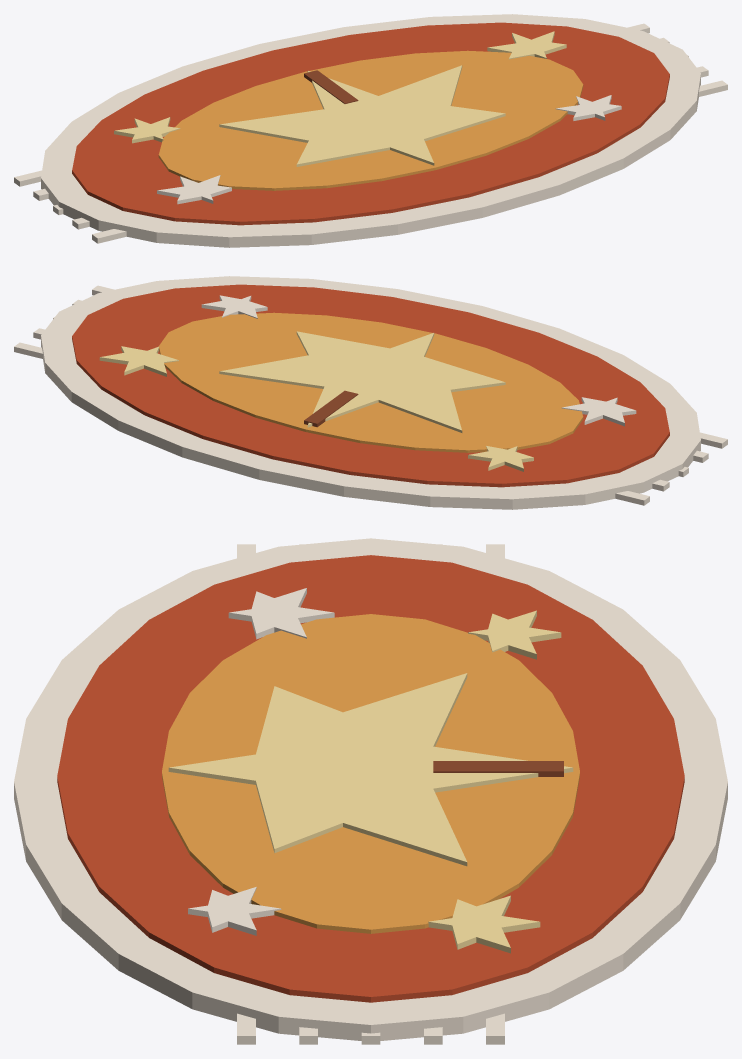
The model's file is CatCafe_Decor_FallenLeafRug.glb.
3 renders of one model, top to bottom at view 1: azimuth 30°, elevation 25°; view 2: azimuth 150°, elevation 25°; view 3: azimuth 270°, elevation 25°, orthographic. The views are drawn at different scales.
Parts seen in each view (by area): view 1: CatCafe_Decor_FallenLeafRug; view 2: CatCafe_Decor_FallenLeafRug; view 3: CatCafe_Decor_FallenLeafRug.
Boxes of the visible parts, bbox=[...] form: CatCafe_Decor_FallenLeafRug: bbox=[14, 14, 727, 247]; CatCafe_Decor_FallenLeafRug: bbox=[14, 276, 727, 509]; CatCafe_Decor_FallenLeafRug: bbox=[14, 538, 727, 1044].
Size of the model in its own units: 3.74 by 0.115 by 2.29.
1 material, 1 textured.
